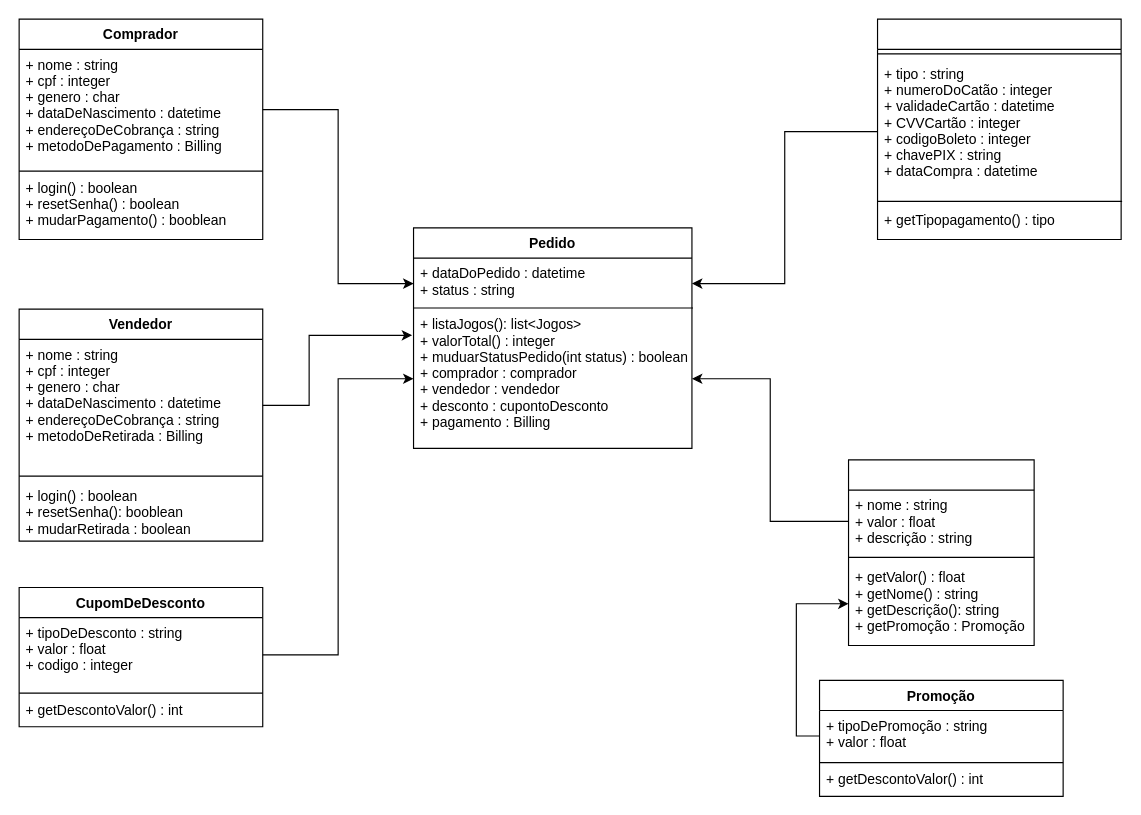
This 1141x815 diagram has some shape labels left out. Here are the shapes that lost their labels. From the top down, the box of each, then its label:
(876, 18, 1121, 240): Billing
(847, 459, 1034, 646): Jogo
